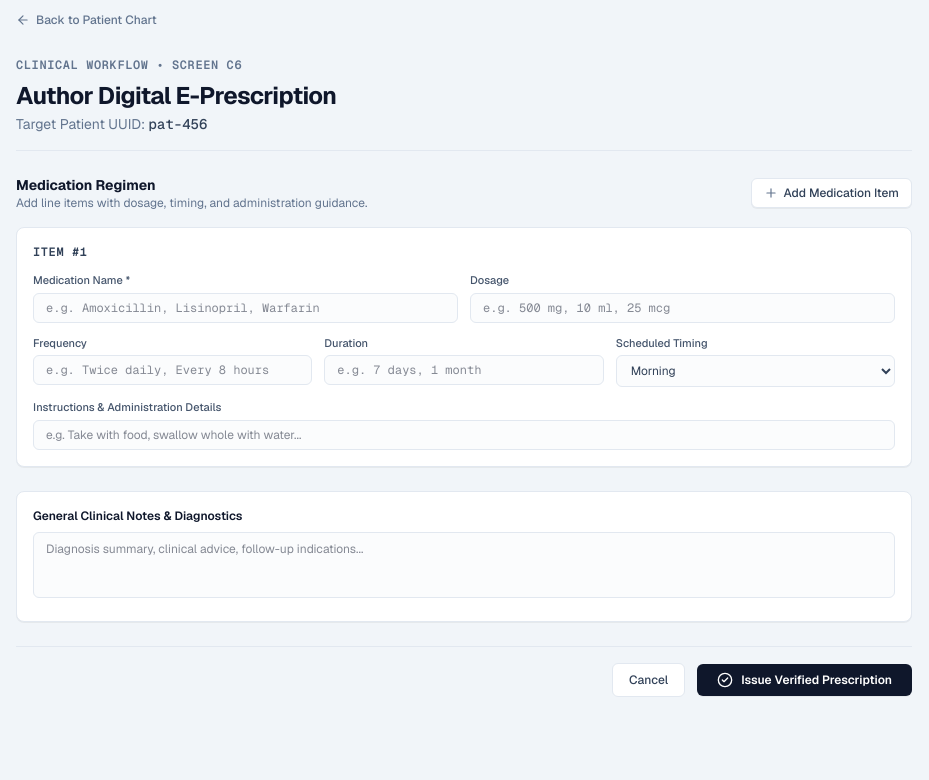
Test case: DigitalPrescribe Component (Screen C6) › validates required fields before submitting
What coordinates should you click on to do the following:
click the button "Issue Verified Prescription"
I would click on:
 (805, 680)
Its box is [697, 664, 912, 696].
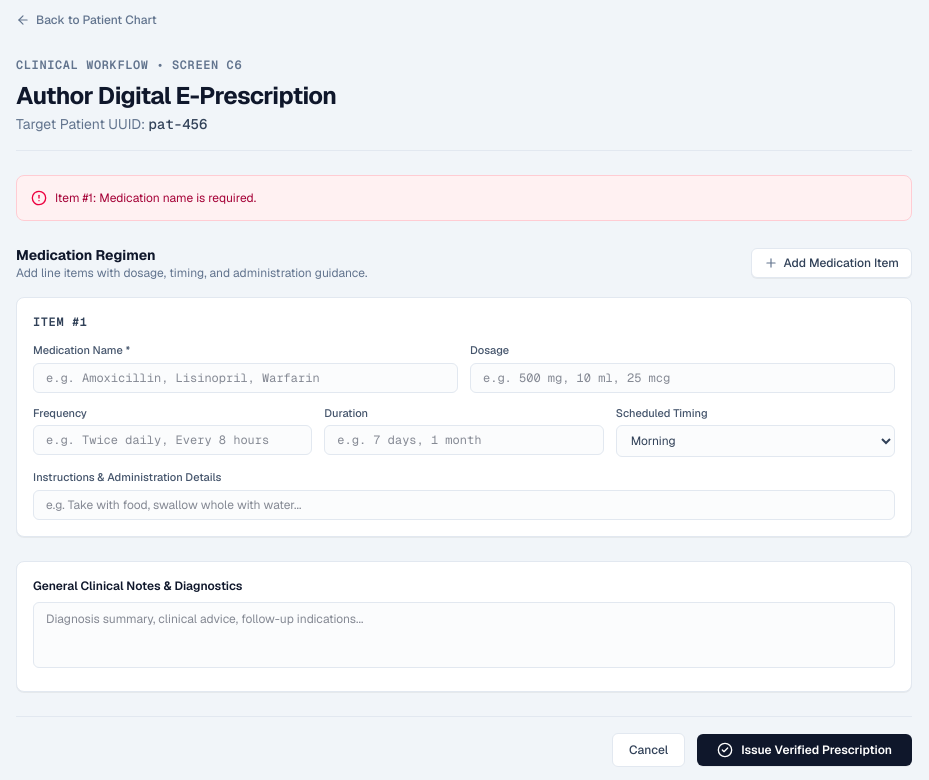
Result: the text "Item #1: Medication name is required." is shown at [55, 190, 256, 206]
